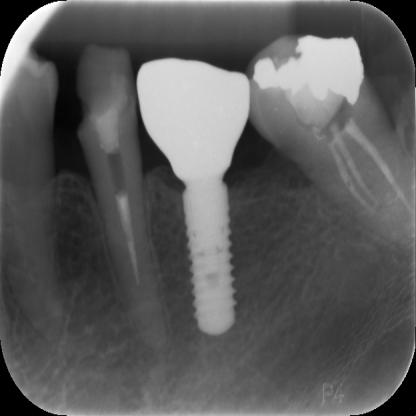ITI: (181, 176, 236, 336)
